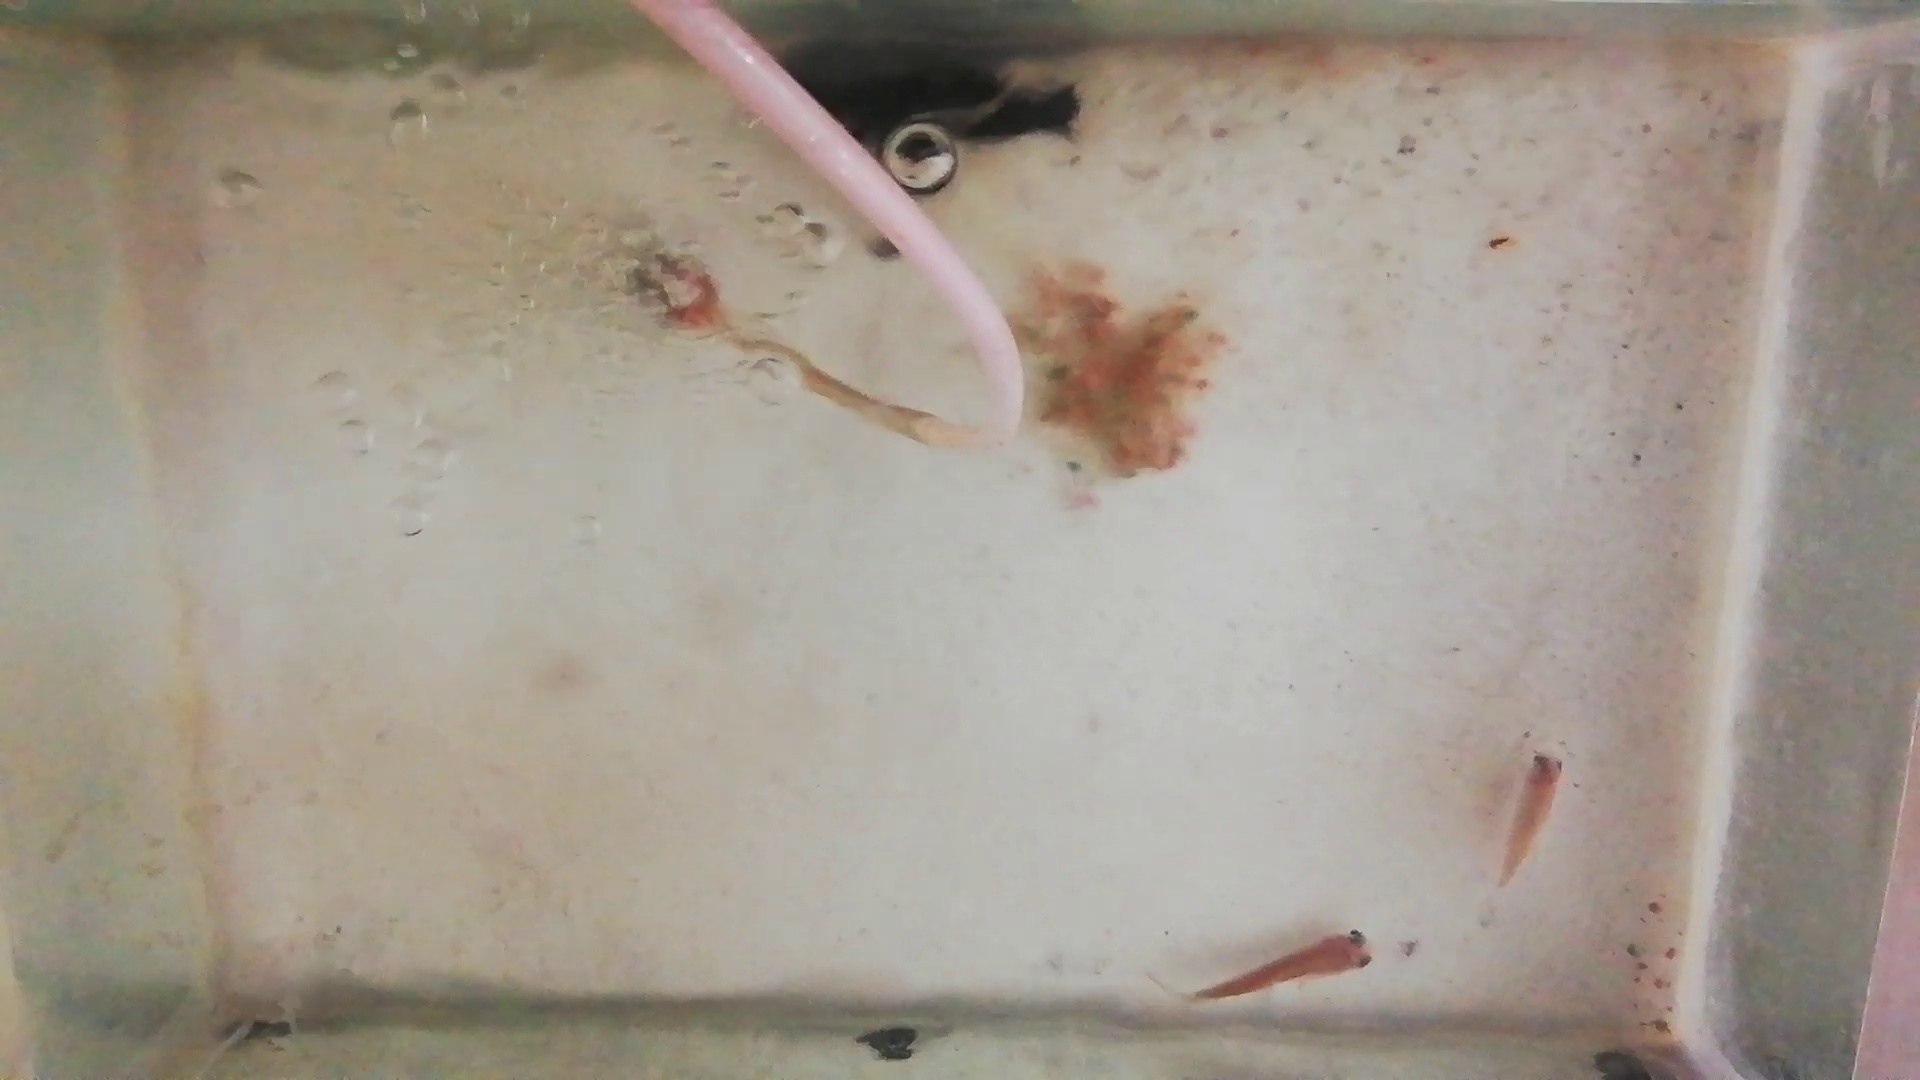fish: (1189, 926, 1377, 1000), (1501, 752, 1567, 885)
